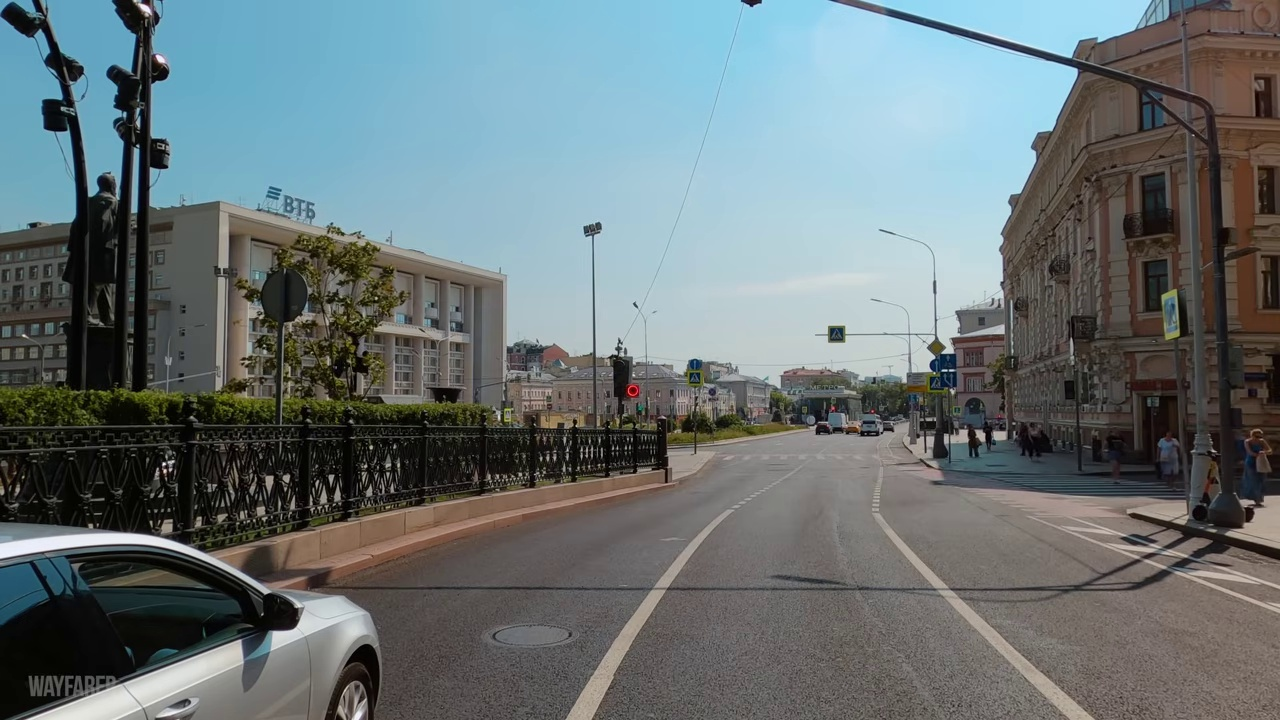apagada: (578, 218, 606, 242), (876, 220, 899, 242)
